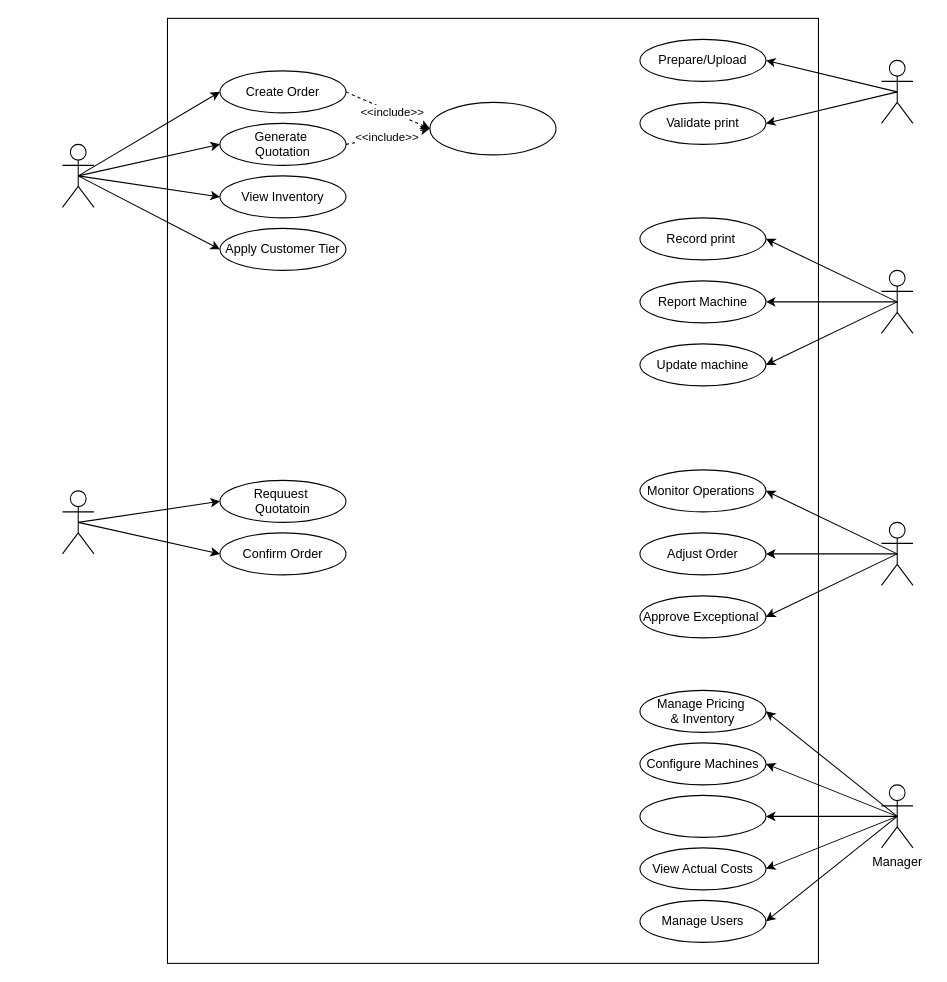
Image size: 947x982. Some labels were removed from this diagram. The shapes that lost their labels are listed below. From the top down, each one's centre as x and y in pixels, then its label:
pixel 896 91: Graphic Designer
pixel 492 128: Calculate Dynamic price
pixel 77 175: Front Desk Employee
pixel 896 301: Machine Operator
pixel 77 522: Customer
pixel 896 553: Supervisor
pixel 702 815: View Financial
